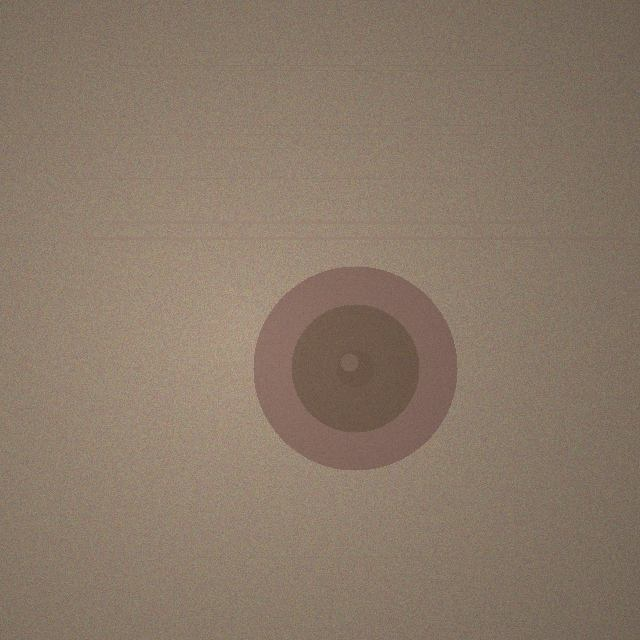good: (253, 266, 457, 470)
